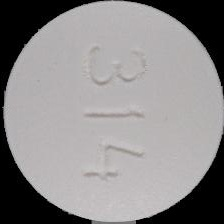61919-138: (0, 0, 224, 224)
